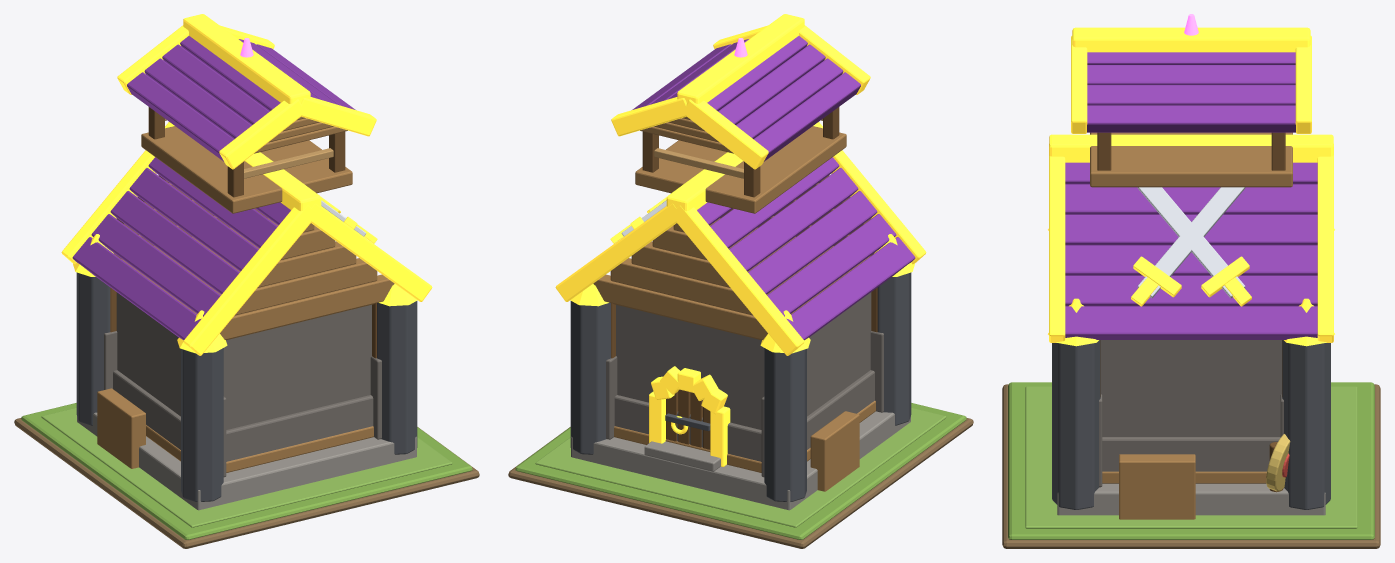
File: barracks_lv7.glb
3 views of the same model, side by side, from view 1: azimuth 30°, elevation 25°; view 2: azimuth 150°, elevation 25°; view 3: azimuth 270°, elevation 25° (orthographic). The views are drawn at different scales.
Visible parts, largest first — view 1: PlasterCore, Foundation, Base_Inner, Base_Grass, RoofPlatform, BarracksStoneWainscot, BR_Bastion_-1_-1, BR_Bastion_1_-1, Base_Dirt, Bargeboard_-1_-1, BR_Bastion_-1_1, RoofSlope_-1_2 (+28 smaller); view 2: PlasterCore, Base_Inner, Base_Grass, RoofPlatform, Foundation, BR_Bastion_-1_1, BR_Bastion_1_1, Base_Dirt, BR_Bastion_-1_-1, Bargeboard_1_-1, BarracksStoneWainscot, RoofSlope_-1_2 (+31 smaller); view 3: PlasterCore, Base_Inner, Base_Grass, RoofPlatform, RoofSlope_1_5, BR_Bastion_1_-1, BR_Bastion_1_1, RoofSlope_1_2, RoofSlope_1_4, RidgeBeam.001, RoofSlope_1_3, RoofSlope_1_1 (+22 smaller).
Part boxes in pixels (box(x1,y1,x2,y2)): PlasterCore: box(116, 292, 371, 429); Foundation: box(77, 412, 416, 510); Base_Inner: box(41, 407, 452, 527); Base_Grass: box(21, 403, 472, 539); RoofPlatform: box(141, 126, 352, 213); BarracksStoneWainscot: box(113, 370, 373, 461); BR_Bastion_-1_-1: box(181, 348, 223, 501); BR_Bastion_1_-1: box(377, 301, 417, 454); Base_Dirt: box(14, 418, 479, 548); Bargeboard_-1_-1: box(183, 205, 316, 355); BR_Bastion_-1_1: box(76, 272, 110, 425); RoofSlope_-1_2: box(129, 168, 258, 271); PlasterCore: box(616, 292, 871, 429); Base_Inner: box(535, 407, 946, 527); Base_Grass: box(515, 403, 966, 539); RoofPlatform: box(635, 126, 846, 213); Foundation: box(571, 411, 910, 510); BR_Bastion_-1_1: box(764, 348, 806, 501); BR_Bastion_1_1: box(570, 301, 610, 454); Base_Dirt: box(508, 418, 973, 548); BR_Bastion_-1_-1: box(877, 272, 911, 425); Bargeboard_1_-1: box(671, 205, 804, 355); BarracksStoneWainscot: box(614, 370, 874, 461); RoofSlope_-1_2: box(729, 168, 858, 271); PlasterCore: box(1101, 340, 1281, 436); Base_Inner: box(1025, 386, 1357, 528); Base_Grass: box(1008, 382, 1374, 539); RoofPlatform: box(1090, 132, 1292, 187); RoofSlope_1_5: box(1065, 306, 1317, 339); BR_Bastion_1_-1: box(1052, 340, 1100, 509); BR_Bastion_1_1: box(1282, 340, 1330, 509); RoofSlope_1_2: box(1065, 214, 1317, 245); RoofSlope_1_4: box(1065, 275, 1317, 306); RidgeBeam.001: box(1072, 27, 1310, 52); RoofSlope_1_3: box(1065, 245, 1317, 275); RoofSlope_1_1: box(1065, 184, 1317, 214).
Bounding box in the file's own units: 2.76 × 3.67 × 2.76.
